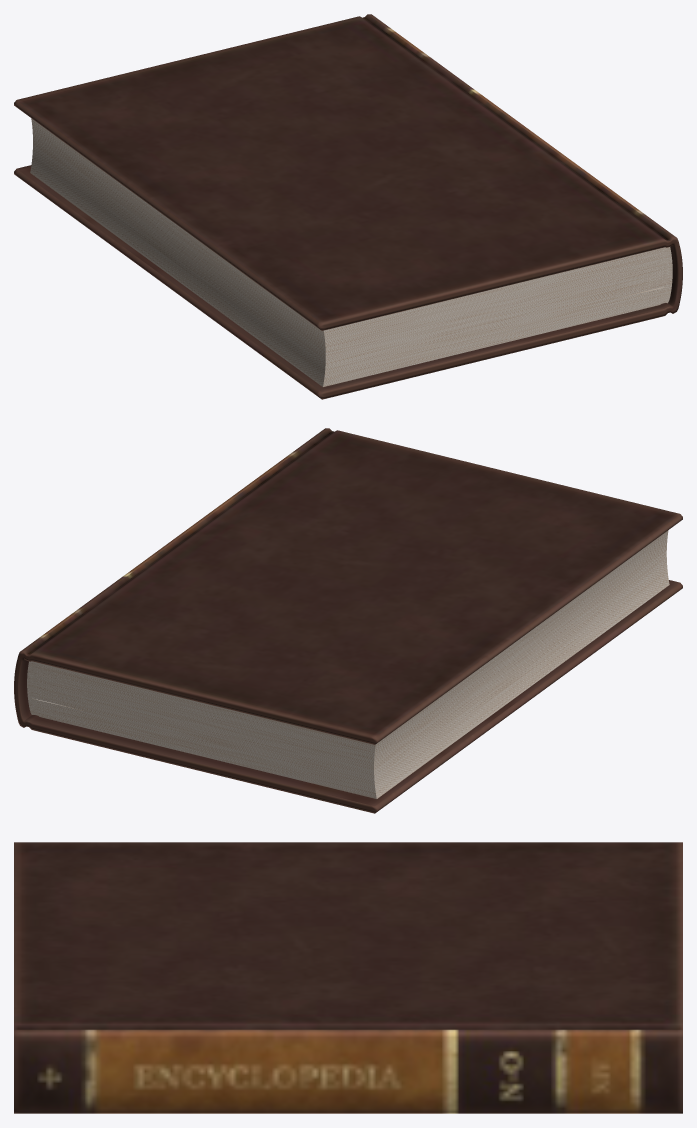
File: LawBook_SourceBook14_Flat.obj
3 views of the same model, one above another, from view 1: azimuth 30°, elevation 25°; view 2: azimuth 150°, elevation 25°; view 3: azimuth 270°, elevation 25° (orthographic). The views are drawn at different scales.
Parts seen in each view (by area): view 1: book_encyclopedia_set_01_cover, book_encyclopedia_set_01_paper; view 2: book_encyclopedia_set_01_cover, book_encyclopedia_set_01_paper; view 3: book_encyclopedia_set_01_cover.
Part boxes in pixels (x1,y1,x2,y2): book_encyclopedia_set_01_cover: [14, 14, 682, 399]; book_encyclopedia_set_01_paper: [30, 118, 672, 386]; book_encyclopedia_set_01_cover: [14, 428, 682, 813]; book_encyclopedia_set_01_paper: [27, 530, 669, 798]; book_encyclopedia_set_01_cover: [14, 842, 682, 1113].
Size of the model in its own units: 0.6868 by 0.1375 by 1.
2 materials, 2 textured.
